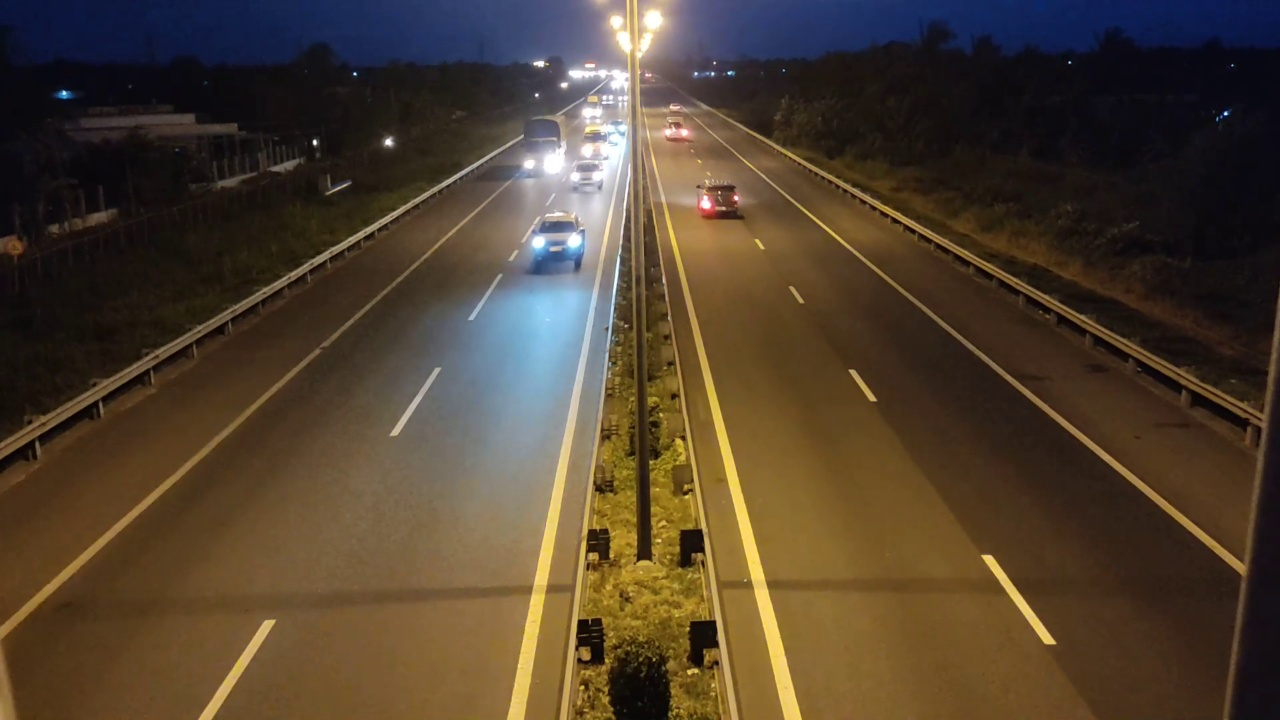car: (525, 210, 587, 275), (696, 179, 742, 219), (570, 160, 606, 192)
